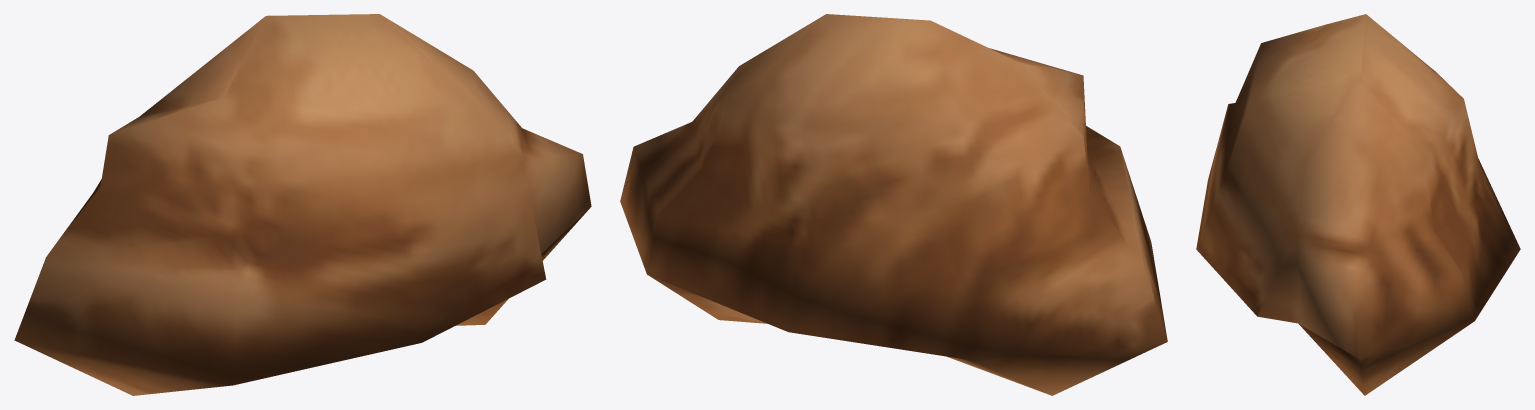
File: cj_stone1.fbx
3 views of the same model, side by side, from view 1: azimuth 30°, elevation 25°; view 2: azimuth 150°, elevation 25°; view 3: azimuth 270°, elevation 25° (orthographic). The views are drawn at different scales.
Parts seen in each view (by area): view 1: cj_stone1; view 2: cj_stone1; view 3: cj_stone1.
Boxes of the visible parts, x1,y1,x2,y2 form: cj_stone1: (14, 14, 591, 395); cj_stone1: (620, 14, 1167, 395); cj_stone1: (1196, 14, 1520, 395).
Bounding box in the file's own units: 275 × 167 × 166.
